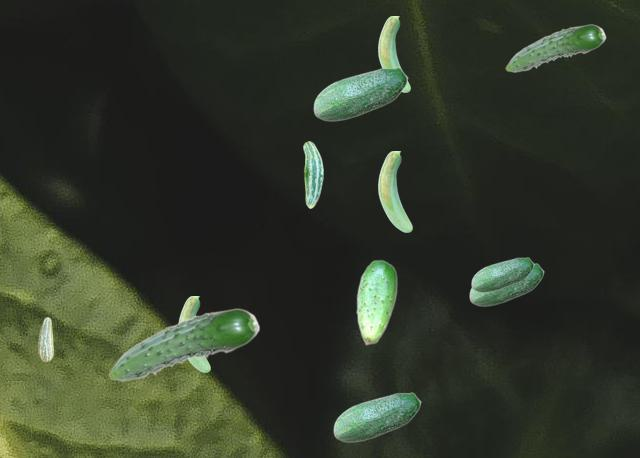cucumber: (108, 308, 259, 380), (313, 67, 407, 120), (505, 24, 605, 71), (333, 392, 420, 441), (356, 259, 396, 344), (469, 263, 543, 305), (378, 151, 411, 231), (178, 296, 209, 371), (378, 16, 409, 91), (471, 257, 533, 291), (303, 141, 322, 207), (38, 317, 52, 360)
